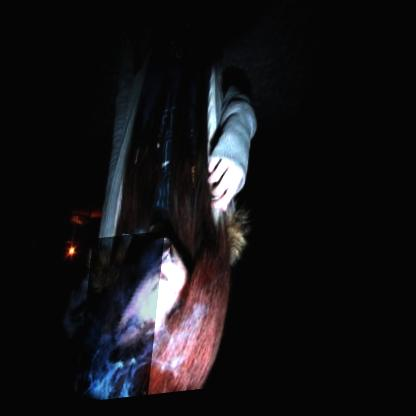smoke: (85, 235, 170, 406)
